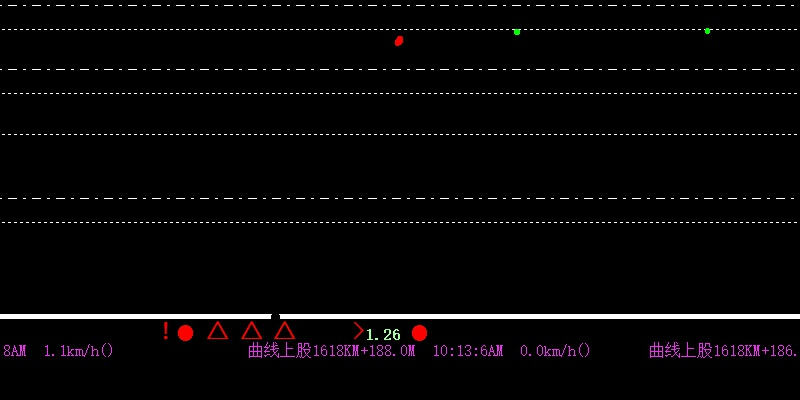circle: (406, 322, 429, 342), (174, 323, 194, 343)
face_1: (511, 26, 523, 40), (703, 21, 711, 39)
face_down: (392, 24, 404, 48)
